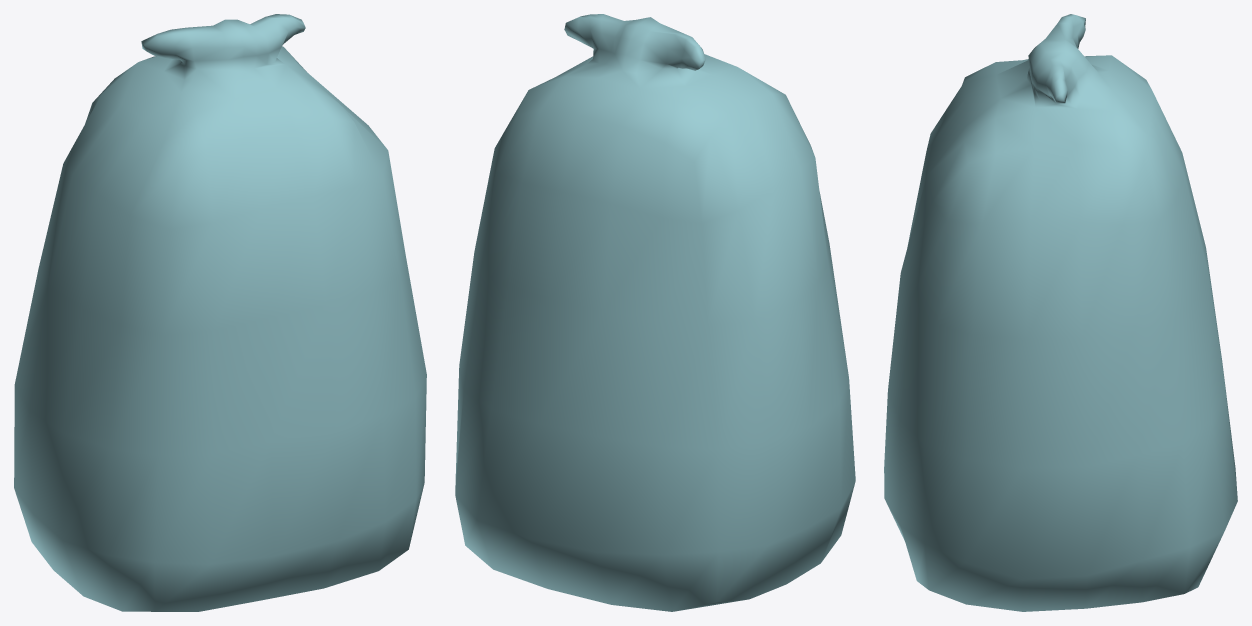
The model's file is SackA.fbx.
3 views of the same model, side by side, from view 1: azimuth 30°, elevation 25°; view 2: azimuth 150°, elevation 25°; view 3: azimuth 270°, elevation 25° (orthographic). The views are drawn at different scales.
Visible parts, largest first — view 1: SackA; view 2: SackA; view 3: SackA.
Part boxes in pixels (box(x1,y1,x2,y2)): SackA: box(14, 14, 426, 611); SackA: box(455, 14, 855, 611); SackA: box(884, 14, 1237, 611).
Size of the model in its own units: 42.63 by 61.76 by 38.08.
